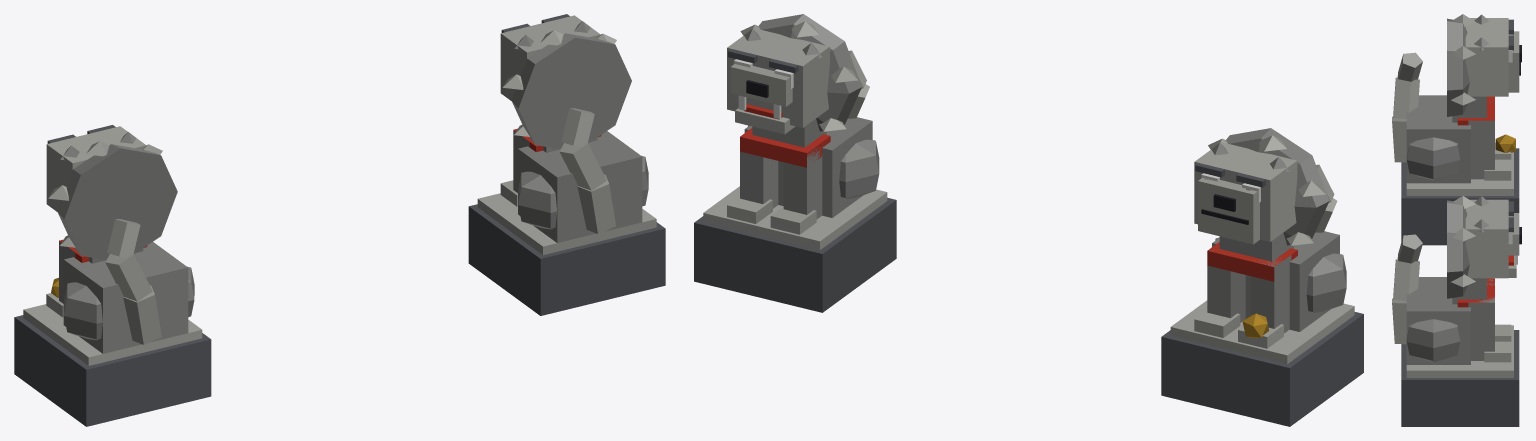
The model's file is Decor_SamuraiShrine_Komainu.fbx.
3 renders of one model, left to right at view 1: azimuth 30°, elevation 25°; view 2: azimuth 150°, elevation 25°; view 3: azimuth 270°, elevation 25°, orthographic. The views are drawn at different scales.
Parts seen in each view (by area): view 1: Komainu_Body; view 2: Komainu_Body; view 3: Komainu_Body.
Part boxes in pixels (x1,y1,x2,y2): Komainu_Body: (14, 14, 665, 426); Komainu_Body: (694, 14, 1363, 426); Komainu_Body: (1392, 14, 1521, 426).
Bounding box in the file's own units: 20.4 × 8.2 × 4.79.
